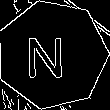N_N: (32, 29, 73, 80)
